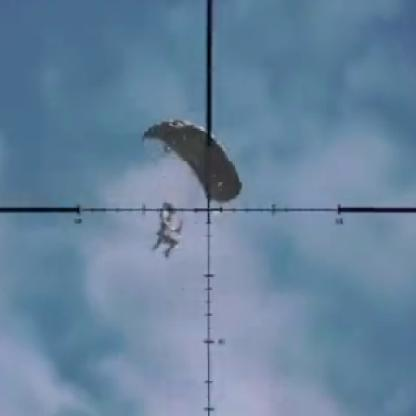enemy: (153, 204, 182, 261)
